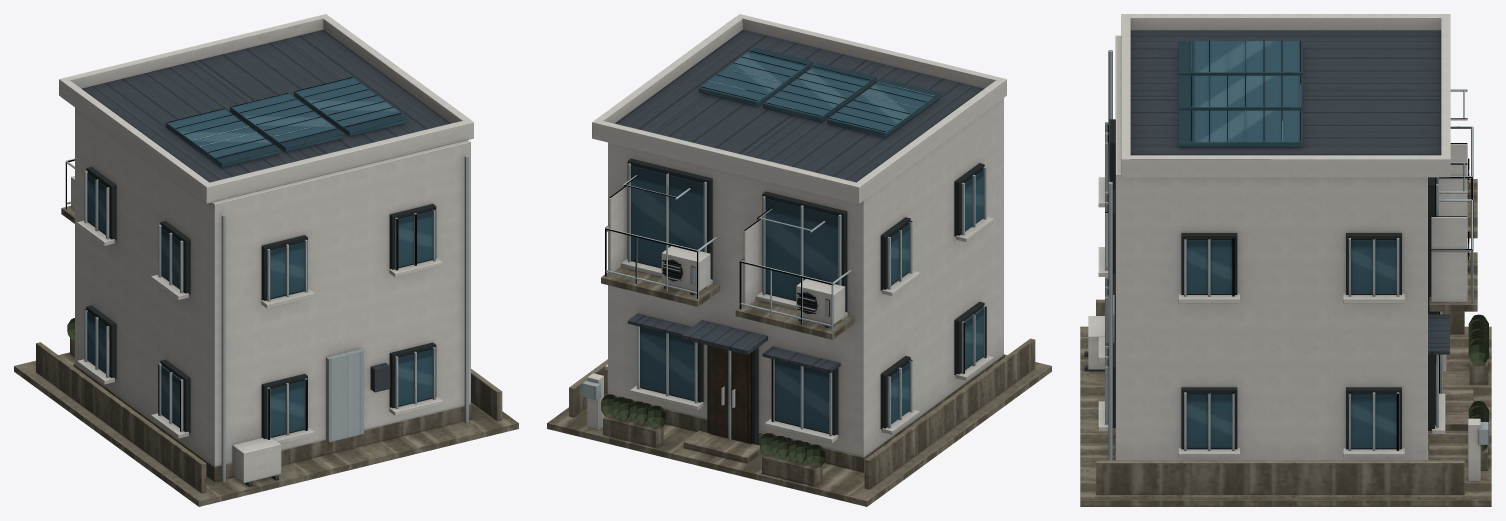
The model's file is residential_012.obj.
3 renders of one model, left to right at view 1: azimuth 30°, elevation 25°; view 2: azimuth 150°, elevation 25°; view 3: azimuth 270°, elevation 25°, orthographic. The views are drawn at different scales.
Parts seen in each view (by area): view 1: residential_012; view 2: residential_012; view 3: residential_012.
Part boxes in pixels (x1,y1,x2,y2): residential_012: [14, 14, 518, 506]; residential_012: [547, 14, 1051, 506]; residential_012: [1080, 14, 1491, 506].
Bounding box in the file's own units: 7.25 × 6.49 × 7.25.
1 material, 1 textured.
